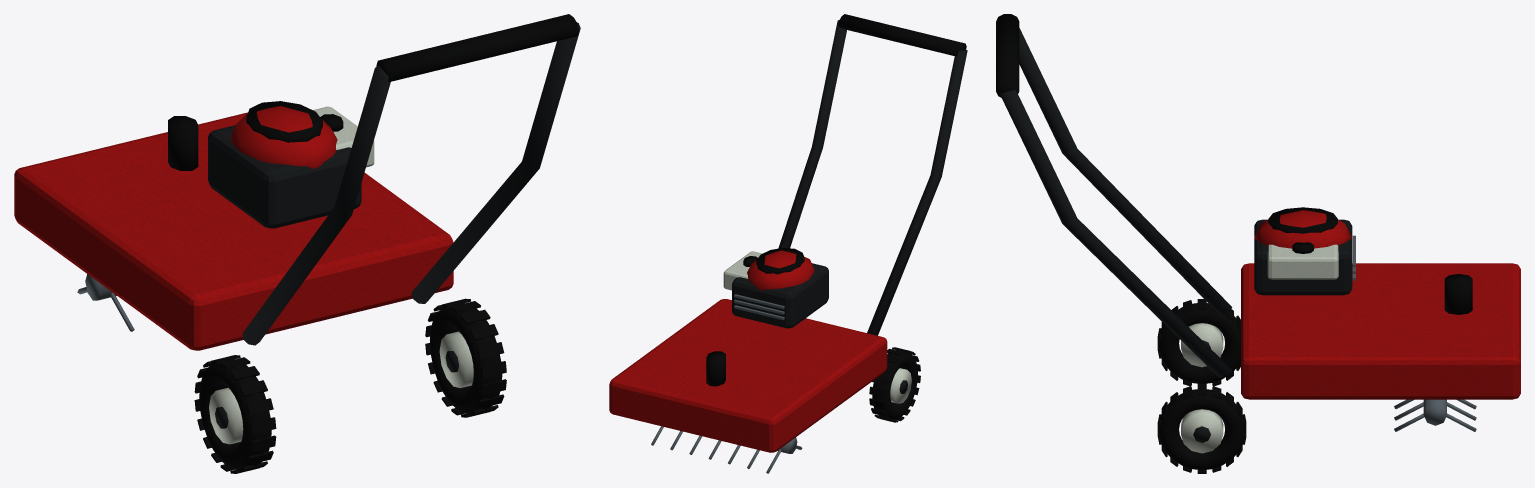
Rendered from PowerRakeDethatcher.gltf.
The picture shows the model from 3 angles, left to right: view 1: azimuth 30°, elevation 25°; view 2: azimuth 150°, elevation 25°; view 3: azimuth 270°, elevation 25°; orthographic projection. The views are drawn at different scales.
Visible parts, largest first — view 1: PowerRakeDethatcher__Body, PowerRakeDethatcher__Wheel_Rear-1, PowerRakeDethatcher__Wheel_Rear1, PowerRakeDethatcher__Wheel_Flails; view 2: PowerRakeDethatcher__Body, PowerRakeDethatcher__Wheel_Rear-1, PowerRakeDethatcher__Wheel_Flails; view 3: PowerRakeDethatcher__Body, PowerRakeDethatcher__Wheel_Rear1, PowerRakeDethatcher__Wheel_Rear-1, PowerRakeDethatcher__Wheel_Flails.
Boxes of the visible parts, left/top/right/bottom form: PowerRakeDethatcher__Body: left=14, top=14, right=580, bottom=350; PowerRakeDethatcher__Wheel_Rear-1: left=194, top=355, right=276, bottom=473; PowerRakeDethatcher__Wheel_Rear1: left=425, top=298, right=506, bottom=417; PowerRakeDethatcher__Wheel_Flails: left=77, top=274, right=134, bottom=331; PowerRakeDethatcher__Body: left=609, top=14, right=967, bottom=452; PowerRakeDethatcher__Wheel_Rear-1: left=869, top=347, right=920, bottom=422; PowerRakeDethatcher__Wheel_Flails: left=651, top=426, right=802, bottom=473; PowerRakeDethatcher__Body: left=996, top=14, right=1520, bottom=399; PowerRakeDethatcher__Wheel_Rear1: left=1157, top=385, right=1246, bottom=473; PowerRakeDethatcher__Wheel_Rear-1: left=1157, top=299, right=1240, bottom=386; PowerRakeDethatcher__Wheel_Flails: left=1394, top=399, right=1476, bottom=431.
Bounding box in the file's own units: 0.56 × 1 × 1.26.
Materials: 1 (1 with a texture image).
